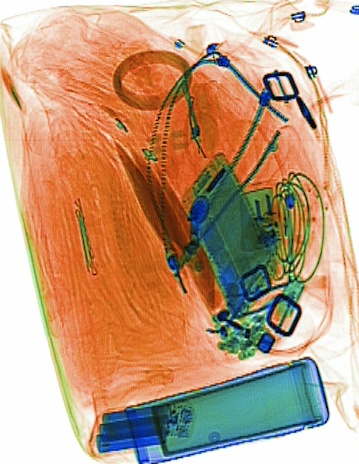powerbank: (85, 399, 194, 457)
